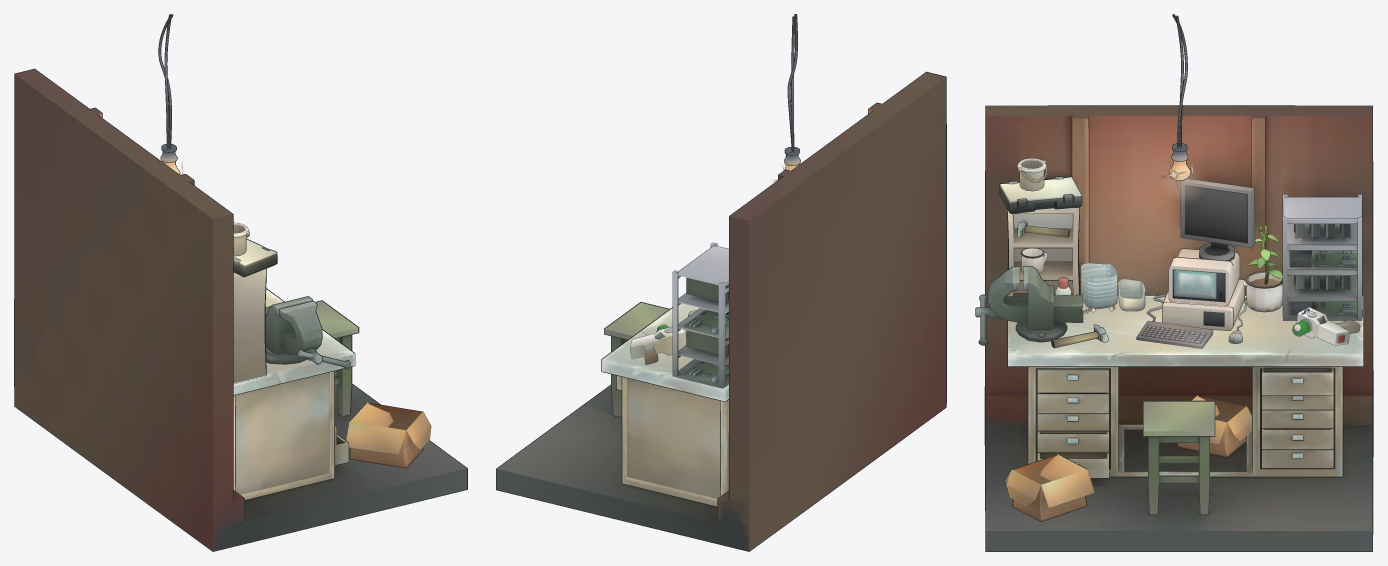
The model's file is workbench.glb.
3 views of the same model, side by side, from view 1: azimuth 30°, elevation 25°; view 2: azimuth 150°, elevation 25°; view 3: azimuth 270°, elevation 25° (orthographic). The views are drawn at different scales.
Parts seen in each view (by area): view 1: Plane.011_Material.029_0, Plane_Material.005_0, Plane_Line art.001_0, Box -2 _Material.007_0, Cube_Material.010_0, Plane.004_Material.006_0, Plane.018_Material.026_0, Plane.005_Material.013_0, BezierCurve.001_Material.027_0; view 2: Plane.011_Material.029_0, Plane_Material.005_0, Plane.013_Material.021_0, Plane_Line art.001_0, Plane.018_Material.026_0, Plane.008_Material.016_0, Plane.014_Material.022_0, Plane.015_Material.024_0, BezierCurve.001_Material.027_0; view 3: Plane.011_Material.029_0, Plane_Material.005_0, Plane_Line art.001_0, Plane.013_Material.021_0, Box -2 _Material.007_0, Plane.009_Material.017_0, Plane.017_Material.020_0, Plane.018_Material.026_0, Cube_Material.010_0, Plane.004_Material.006_0, Plane.005_Material.013_0, Plane.010_Material.018_0 (+13 smaller).
Boxes of the visible parts, x1=… form: Plane.011_Material.029_0: x1=15, y1=69, x2=466, y2=550; Plane_Material.005_0: x1=233, y1=289, x2=354, y2=499; Plane_Line art.001_0: x1=14, y1=15, x2=467, y2=551; Box -2 _Material.007_0: x1=346, y1=402, x2=431, y2=467; Cube_Material.010_0: x1=265, y1=297, x2=349, y2=368; Plane.004_Material.006_0: x1=233, y1=269, x2=265, y2=383; Plane.018_Material.026_0: x1=316, y1=301, x2=358, y2=415; Plane.005_Material.013_0: x1=233, y1=239, x2=276, y2=276; BezierCurve.001_Material.027_0: x1=159, y1=14, x2=179, y2=174; Plane.011_Material.029_0: x1=496, y1=72, x2=945, y2=551; Plane_Material.005_0: x1=602, y1=303, x2=728, y2=506; Plane.013_Material.021_0: x1=673, y1=243, x2=728, y2=388; Plane_Line art.001_0: x1=496, y1=14, x2=946, y2=551; Plane.018_Material.026_0: x1=604, y1=303, x2=668, y2=416; Plane.008_Material.016_0: x1=630, y1=325, x2=686, y2=364; Plane.014_Material.022_0: x1=686, y1=277, x2=728, y2=357; Plane.015_Material.024_0: x1=684, y1=310, x2=728, y2=382; BezierCurve.001_Material.027_0: x1=784, y1=14, x2=800, y2=170; Plane.011_Material.029_0: x1=986, y1=106, x2=1372, y2=551; Plane_Material.005_0: x1=1008, y1=295, x2=1363, y2=477; Plane_Line art.001_0: x1=975, y1=15, x2=1373, y2=551; Plane.013_Material.021_0: x1=1283, y1=194, x2=1361, y2=320; Box -2 _Material.007_0: x1=1005, y1=395, x2=1251, y2=520; Plane.009_Material.017_0: x1=1162, y1=249, x2=1244, y2=330; Plane.017_Material.020_0: x1=1181, y1=178, x2=1254, y2=260; Plane.018_Material.026_0: x1=1143, y1=401, x2=1214, y2=514; Cube_Material.010_0: x1=976, y1=266, x2=1082, y2=344; Plane.004_Material.006_0: x1=1007, y1=207, x2=1079, y2=296; Plane.005_Material.013_0: x1=1000, y1=176, x2=1081, y2=213; Plane.010_Material.018_0: x1=1136, y1=294, x2=1213, y2=348.
Bounding box in the file's own units: 1.52 × 2.59 × 2.11.
Materials: 30 (30 with a texture image).
